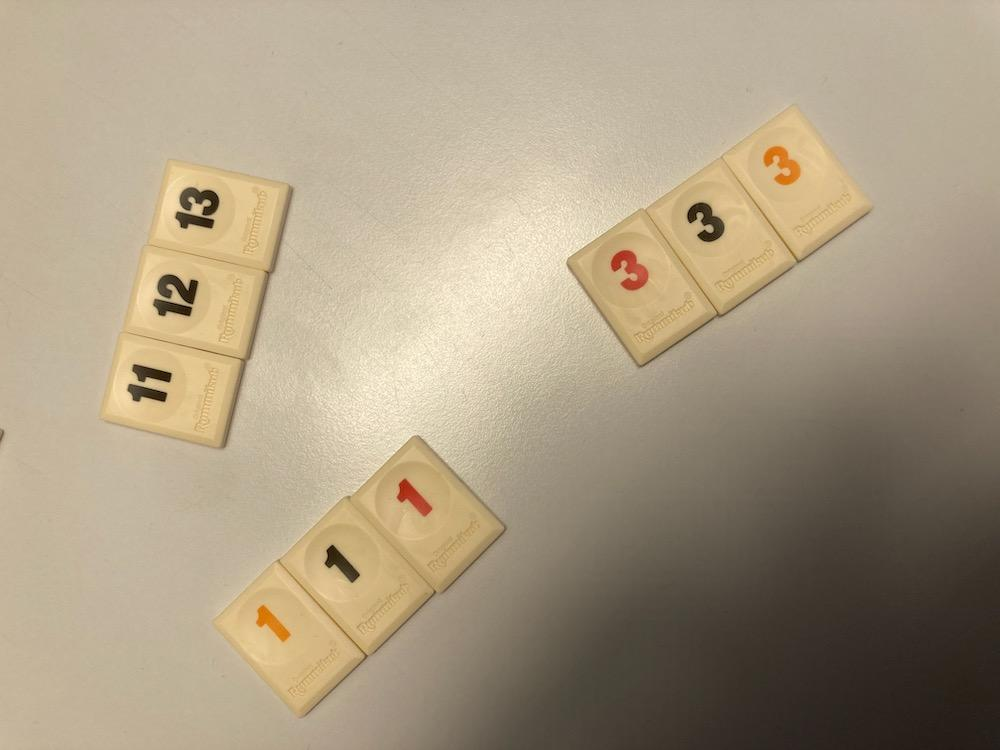black_1: (281, 498, 432, 654)
black_11: (100, 332, 244, 447)
black_12: (123, 246, 268, 359)
black_13: (148, 160, 291, 271)
black_3: (650, 160, 795, 314)
orange_1: (213, 562, 365, 717)
orange_3: (723, 105, 871, 260)
red_1: (352, 436, 504, 592)
red_3: (568, 209, 717, 365)
